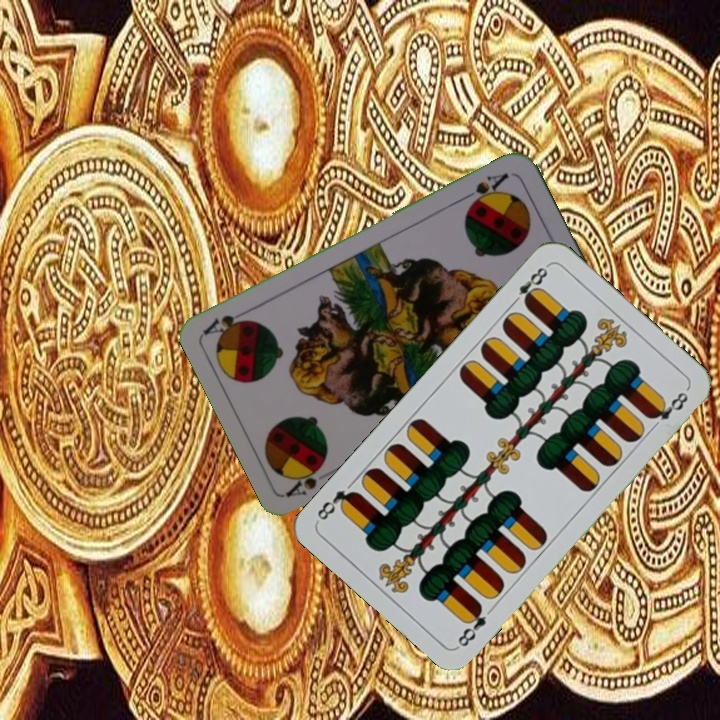E8: (507, 262, 551, 309), (453, 600, 489, 650)
SA: (459, 168, 512, 210), (283, 461, 326, 499)
